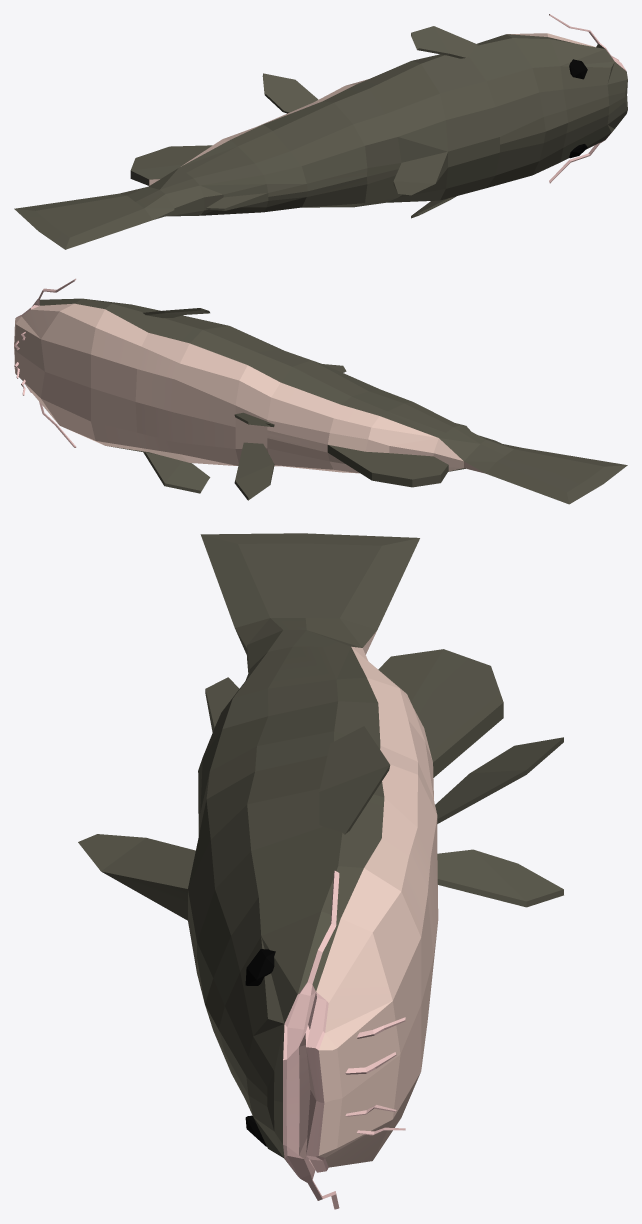
The model's file is Catfish.glb.
3 renders of one model, top to bottom at view 1: azimuth 30°, elevation 25°; view 2: azimuth 150°, elevation 25°; view 3: azimuth 270°, elevation 25°, orthographic. The views are drawn at different scales.
Parts seen in each view (by area): view 1: Catfish; view 2: Catfish; view 3: Catfish.
Boxes of the visible parts, x1=… form: Catfish: x1=14, y1=14, x2=627, y2=249; Catfish: x1=14, y1=278, x2=627, y2=504; Catfish: x1=78, y1=533, x2=563, y2=1209.
Size of the model in its own units: 0.8839 by 0.2686 by 0.3188.
1 material, 1 textured.
